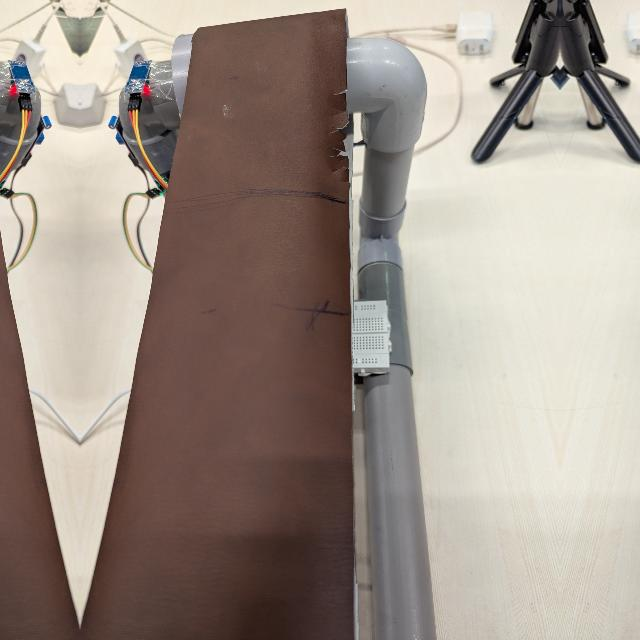edge_damage: (319, 73, 362, 207)
